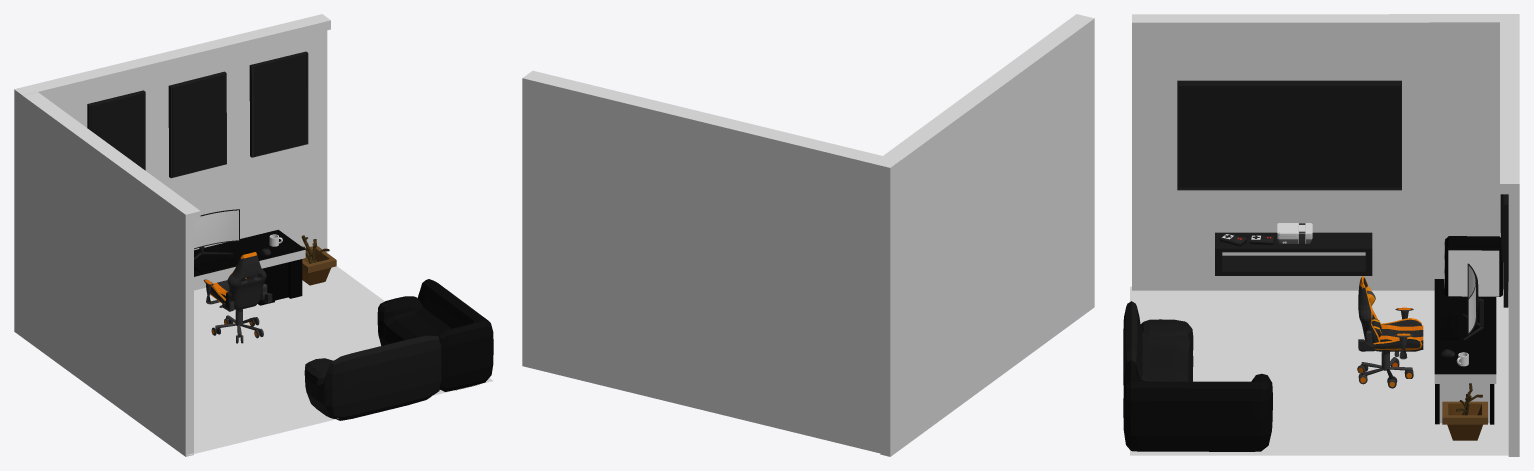
The model's file is fbx_projeto_originall33333333_Collection.fbx.
3 renders of one model, left to right at view 1: azimuth 30°, elevation 25°; view 2: azimuth 150°, elevation 25°; view 3: azimuth 270°, elevation 25°, orthographic. The views are drawn at different scales.
Parts seen in each view (by area): view 1: Cube.001, Cube, Plane, Cube.002, Cube.003, Cube.013, Cube.011, Cube.005, Cube.010, Cube.012, Cube.008, Cube.014; view 2: Cube, Cube.001; view 3: Cube.001, Plane, Cube.007, Cube.003, Cube, Cube.005, Cube.009, Cube.002, Cube.012, Circle.002, Cube.014, Cube.008 (+3 smaller).
Boxes of the visible parts, <box> form: Cube.001: <box>14,90,200,456</box>; Cube: <box>14,14,330,290</box>; Plane: <box>187,266,493,455</box>; Cube.002: <box>304,335,441,420</box>; Cube.003: <box>377,279,493,391</box>; Cube.013: <box>249,51,308,157</box>; Cube.011: <box>168,71,226,178</box>; Cube.005: <box>194,229,305,305</box>; Cube.010: <box>87,90,145,170</box>; Cube.012: <box>203,252,272,343</box>; Cube.008: <box>194,209,239,260</box>; Cube.014: <box>302,246,336,285</box>; Cube: <box>522,70,900,455</box>; Cube.001: <box>880,14,1094,456</box>; Cube.001: <box>1132,14,1508,290</box>; Plane: <box>1130,286,1508,455</box>; Cube.007: <box>1177,80,1401,190</box>; Cube.003: <box>1123,360,1272,451</box>; Cube: <box>1500,14,1519,456</box>; Cube.005: <box>1434,279,1496,424</box>; Cube.009: <box>1215,232,1372,275</box>; Cube.002: <box>1123,301,1193,384</box>; Cube.012: <box>1357,276,1423,388</box>; Circle.002: <box>1444,236,1503,296</box>; Cube.014: <box>1442,401,1487,440</box>; Cube.008: <box>1462,263,1483,340</box>.
Size of the model in its own units: 1475 by 1121 by 1450.
